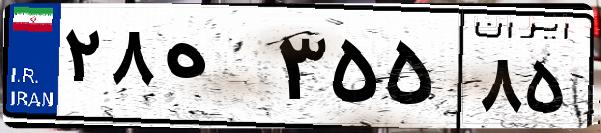2: (57, 26, 110, 100)
3: (270, 28, 330, 110)
5: (385, 28, 445, 110), (330, 28, 385, 110), (525, 38, 570, 115)
8: (475, 38, 525, 113), (110, 28, 158, 98)
ه: (158, 20, 270, 120)
